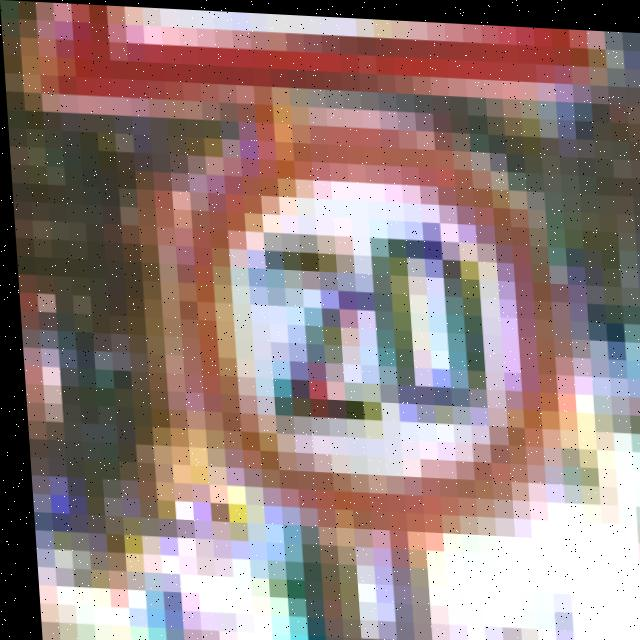speed_limit_20: (149, 101, 588, 561)
